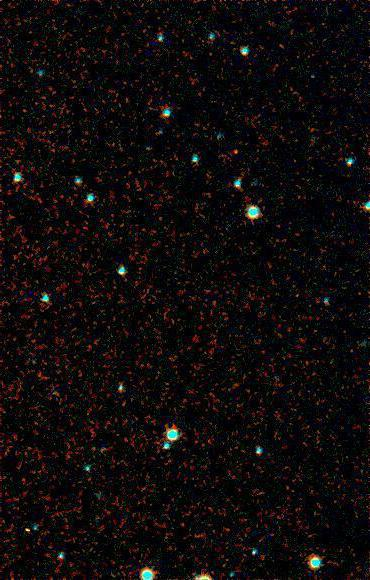star: (220, 141, 250, 171)
